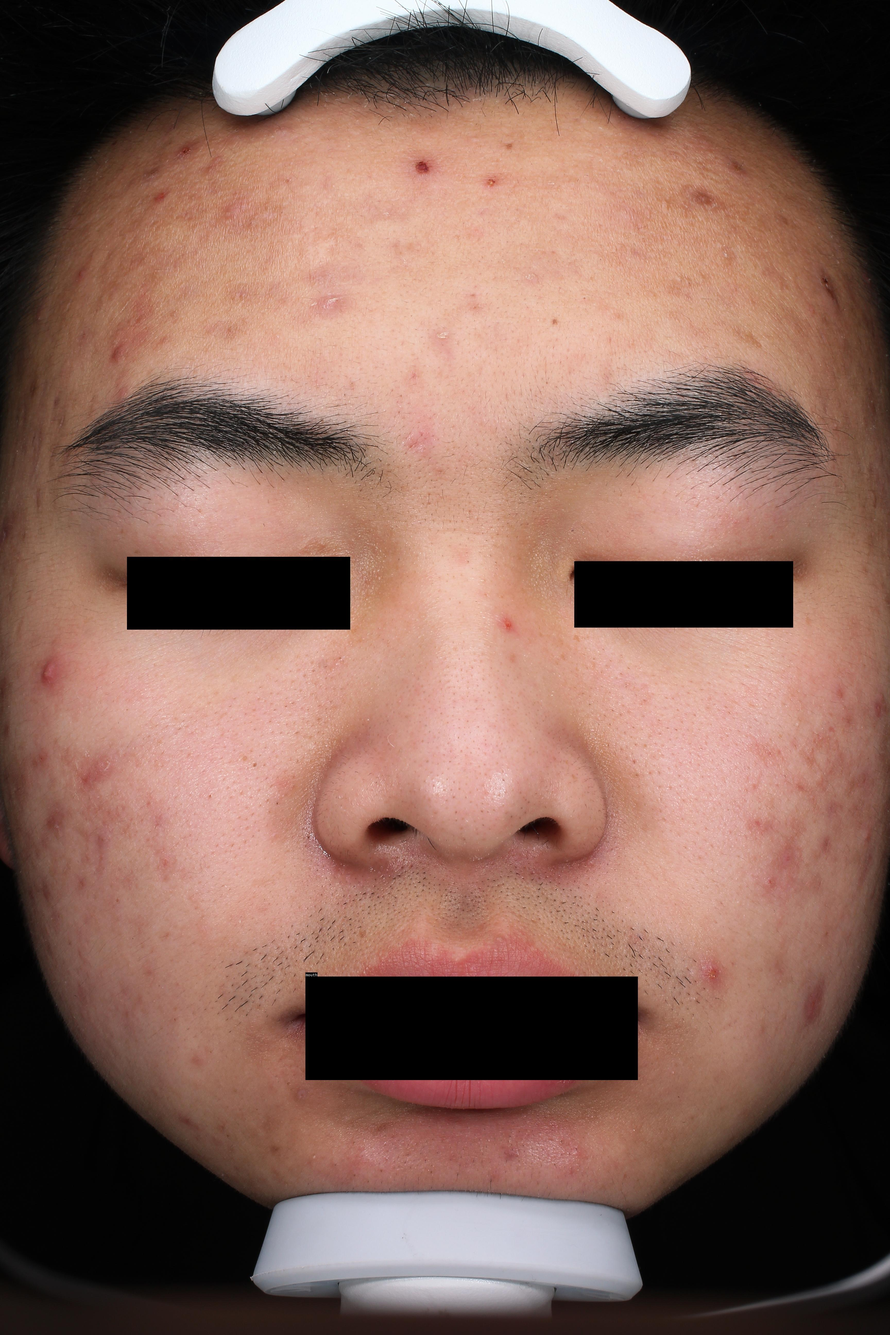atrophic_scar: (42, 403, 70, 468), (44, 456, 68, 508), (30, 488, 44, 514), (146, 167, 161, 182), (358, 928, 367, 939), (828, 726, 836, 737), (754, 820, 761, 828)
closed_comedo: (871, 493, 878, 504), (649, 292, 658, 299), (645, 209, 652, 216), (795, 721, 802, 728), (332, 967, 338, 975), (718, 242, 724, 249), (833, 422, 838, 427)
melasma: (572, 633, 581, 643)
nevus: (549, 316, 564, 327)
open_comedo: (251, 761, 259, 770), (676, 277, 684, 284), (241, 755, 248, 762), (113, 897, 120, 904), (207, 793, 214, 799), (686, 280, 694, 285), (597, 256, 603, 262), (305, 834, 311, 840), (582, 295, 588, 301), (634, 772, 640, 778), (285, 1080, 291, 1086), (172, 1017, 178, 1023), (559, 1139, 564, 1145), (350, 381, 355, 386), (574, 1147, 579, 1151), (352, 1141, 357, 1145), (338, 656, 342, 660), (382, 1134, 387, 1137), (399, 394, 403, 397), (343, 393, 346, 396), (287, 179, 289, 183)
other: (297, 537, 346, 559), (820, 272, 838, 304), (413, 158, 433, 174), (485, 178, 496, 187)
papule: (701, 959, 724, 983), (222, 202, 244, 223), (41, 661, 56, 682), (293, 1085, 309, 1102), (110, 346, 124, 363), (502, 618, 515, 632), (765, 876, 778, 889), (179, 145, 192, 157), (862, 830, 873, 843), (153, 191, 166, 202), (36, 309, 44, 322), (878, 692, 884, 700), (875, 704, 881, 712), (78, 269, 83, 277), (207, 166, 212, 173), (838, 691, 843, 697)
pustule: (311, 1154, 316, 1160)
